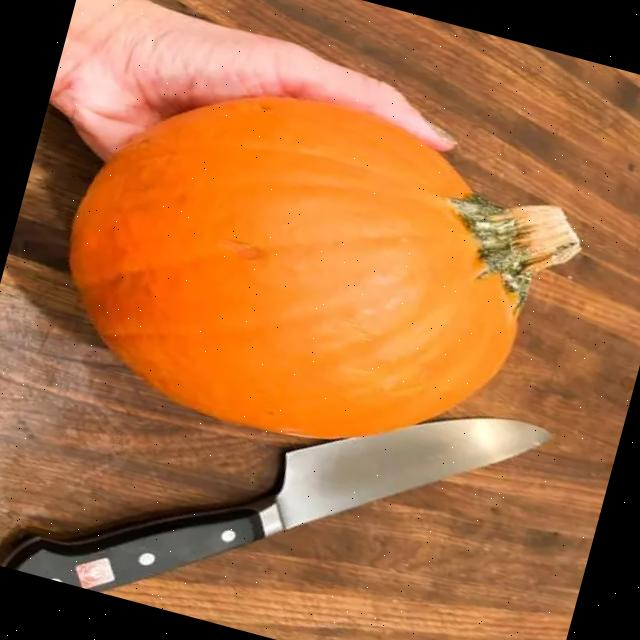pumpkin: (70, 97, 580, 438)
